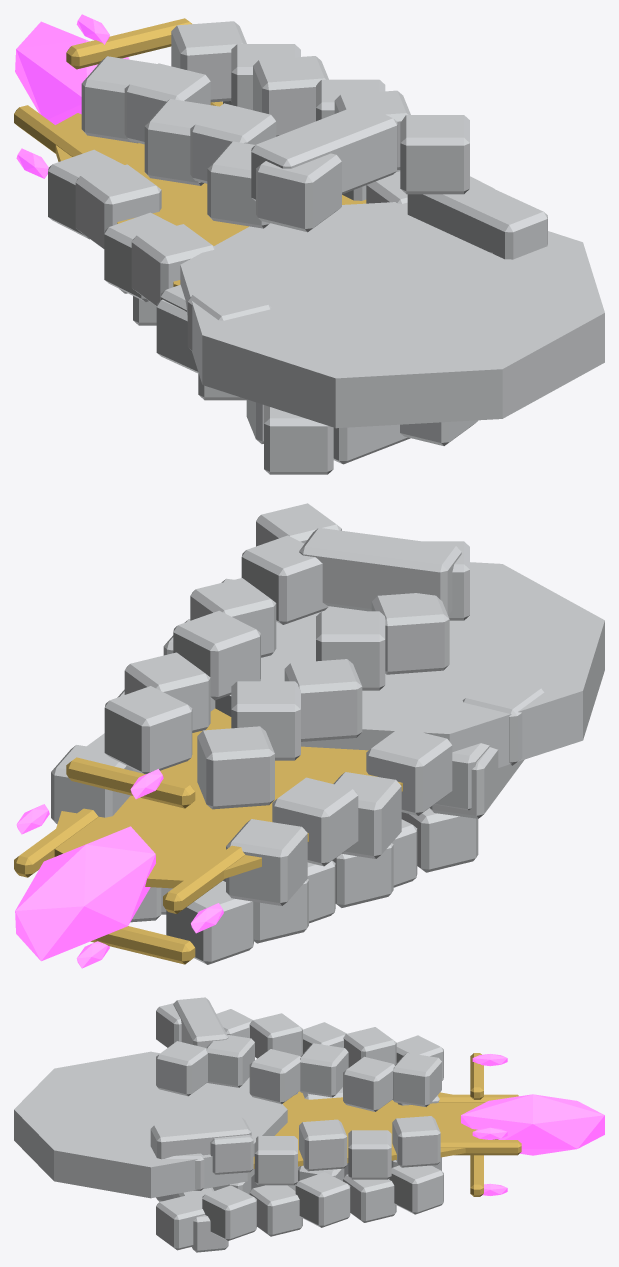
The model's file is crown_ascent_spire_v1.glb.
The picture shows the model from 3 angles, top to bottom: view 1: azimuth 30°, elevation 25°; view 2: azimuth 150°, elevation 25°; view 3: azimuth 270°, elevation 25°; orthographic projection. The views are drawn at different scales.
Parts seen in each view (by area): view 1: Spire_Base, Gold_Ring_0, Crown_Violet_Crystal; view 2: Spire_Base, Gold_Ring_0, Crown_Violet_Crystal; view 3: Spire_Base, Gold_Ring_0, Crown_Violet_Crystal.
Boxes of the visible parts, <box> form: Spire_Base: <box>48,21,604,474</box>; Gold_Ring_0: <box>14,18,366,286</box>; Crown_Violet_Crystal: <box>15,14,129,178</box>; Spire_Base: <box>51,503,604,964</box>; Gold_Ring_0: <box>14,708,402,964</box>; Crown_Violet_Crystal: <box>15,769,223,968</box>; Spire_Base: <box>14,997,443,1252</box>; Gold_Ring_0: <box>253,1053,521,1196</box>; Crown_Violet_Crystal: <box>461,1054,604,1195</box>.
Bounding box in the file's own units: 4.8 × 3.84 × 10.36.
